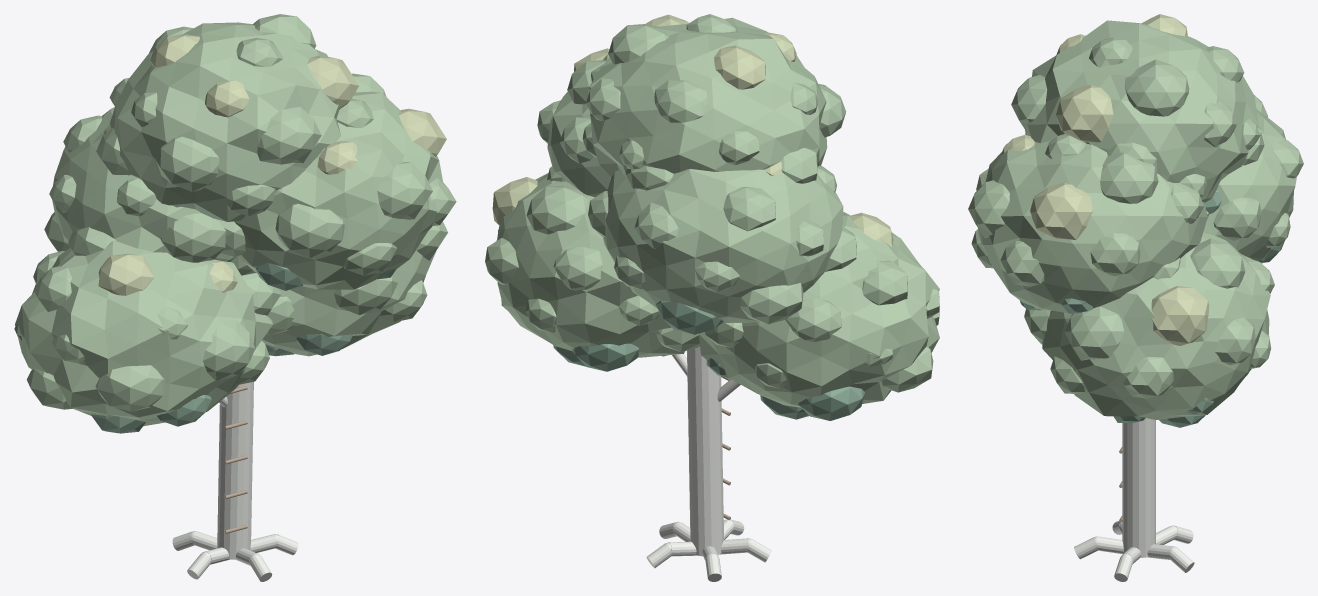
The model's file is library_tree_birch.glb.
3 views of the same model, side by side, from view 1: azimuth 30°, elevation 25°; view 2: azimuth 150°, elevation 25°; view 3: azimuth 270°, elevation 25° (orthographic).
Parts seen in each view (by area): view 1: decor_709568_matte, decor_9bab72_matte, decor_d4d9ce_matte, decor_466d54_matte; view 2: decor_709568_matte, decor_d4d9ce_matte, decor_466d54_matte, decor_9bab72_matte; view 3: decor_709568_matte, decor_9bab72_matte, decor_d4d9ce_matte, decor_466d54_matte.
Boxes of the visible parts, x1,y1,x2,y2 form: decor_709568_matte: (14,14,456,426); decor_9bab72_matte: (98,34,446,295); decor_d4d9ce_matte: (172,382,298,581); decor_466d54_matte: (91,206,396,433); decor_709568_matte: (485,14,939,407); decor_d4d9ce_matte: (646,346,771,581); decor_466d54_matte: (501,175,864,420); decor_9bab72_matte: (492,14,893,246); decor_709568_matte: (968,20,1303,419); decor_9bab72_matte: (1001,14,1209,345); decor_d4d9ce_matte: (1074,418,1194,581); decor_466d54_matte: (1019,190,1284,427).
Size of the model in its own units: 3.39 by 4.1 by 2.39.
